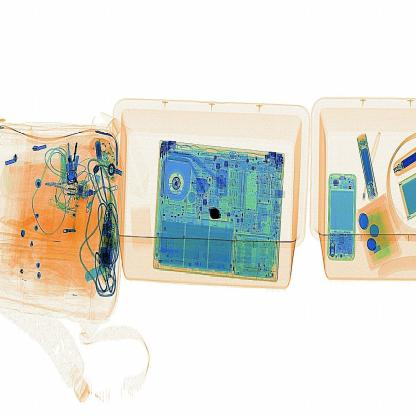scissors: (203, 201, 231, 230)
